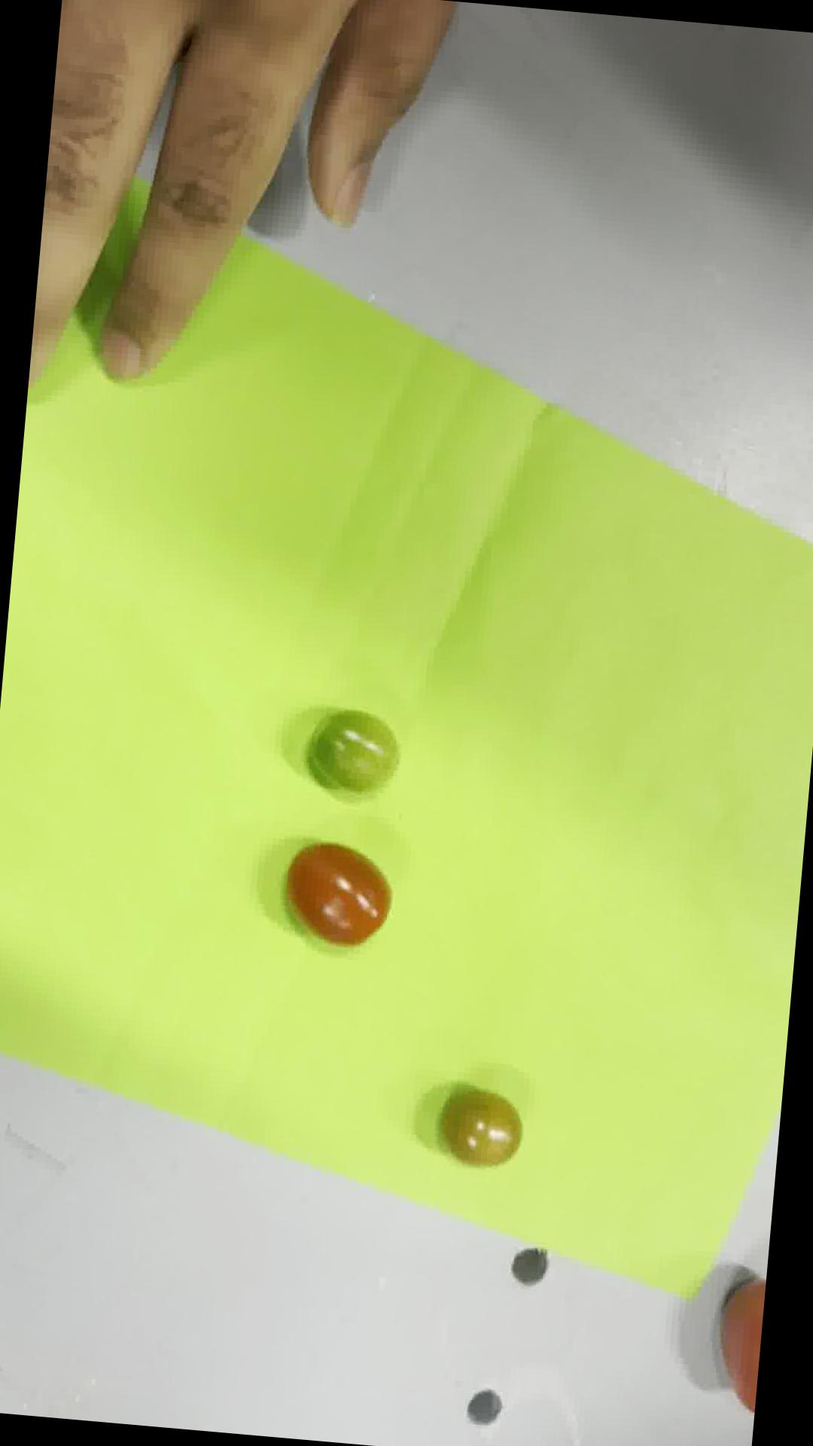green_cherry_tomato: (306, 708, 399, 796)
red_cherry_tomato: (287, 843, 390, 945)
yellow_cherry_tomato: (441, 1087, 522, 1167)
